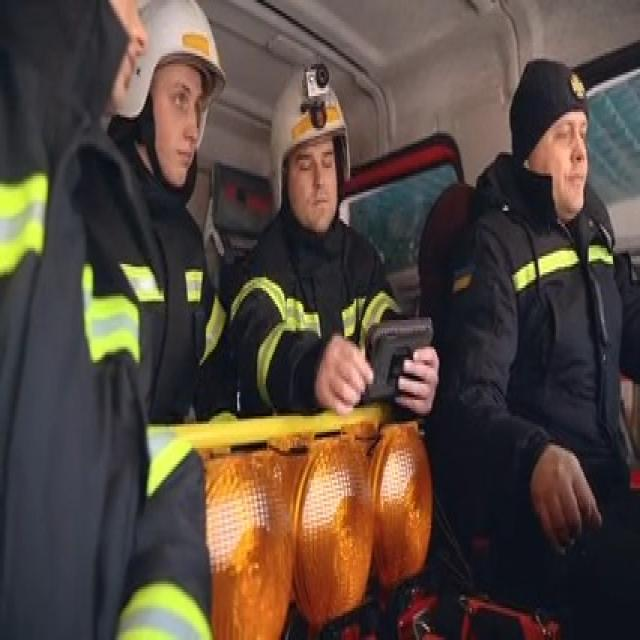Helmet_Wearer: (126, 0, 220, 206), (261, 52, 353, 249)
Jacket_Wearer: (454, 175, 640, 572), (89, 140, 230, 418), (241, 207, 408, 403)
Person: (448, 56, 640, 640), (235, 52, 441, 440), (106, 0, 232, 412)
